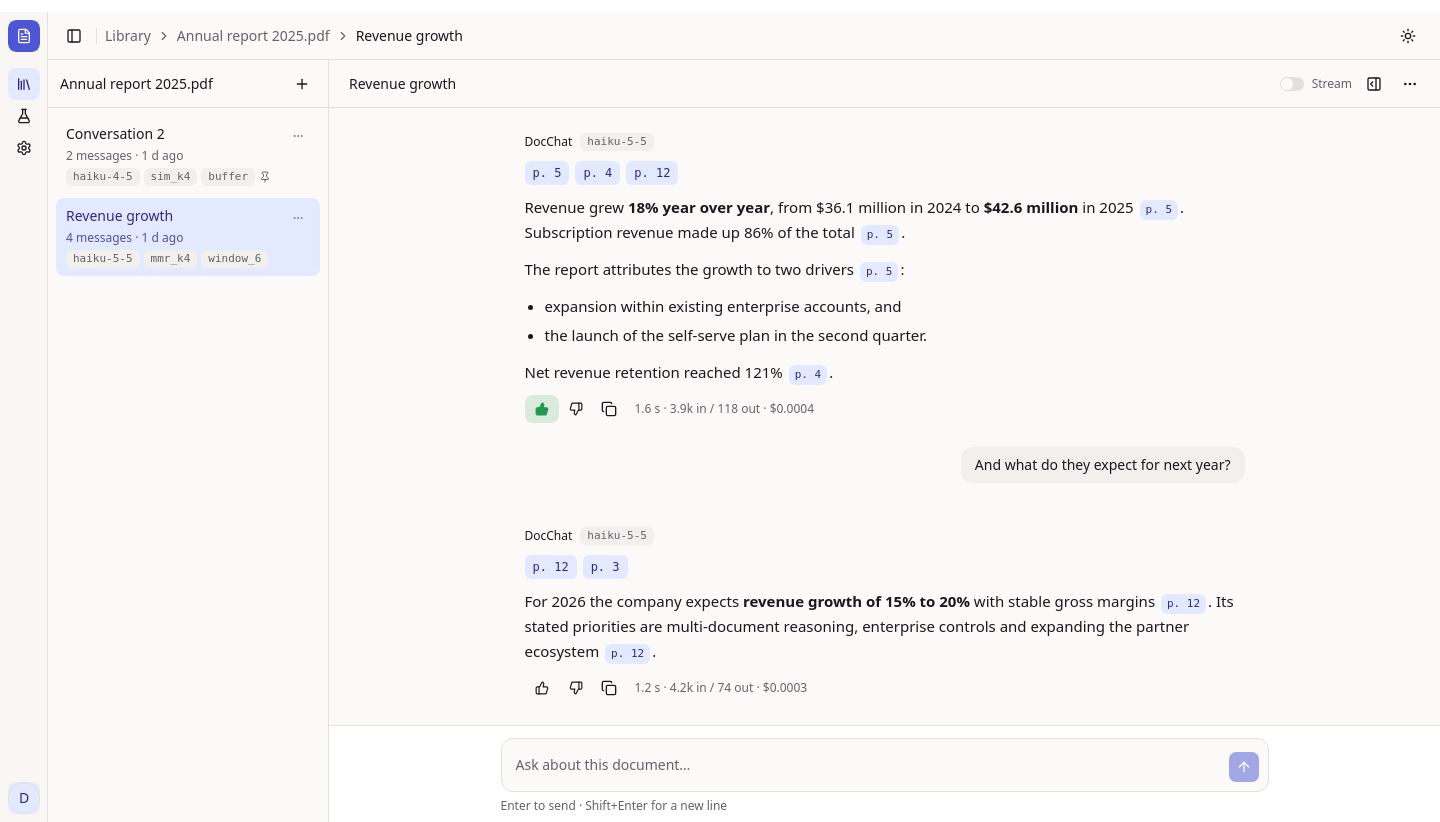
chat › sends a message optimistically and shows the answer
This screenshot has width=1440, height=822.
(page scrolled)
Expected: the element named "Messages" is shown, [500,108,1268,725]
Type "What are the main risks?" into the text box labelled "Ask about this document".
click(864, 765); type("What are the main risks?")  # box [510,747,1220,783]
Then press Enter
(page scrolled)
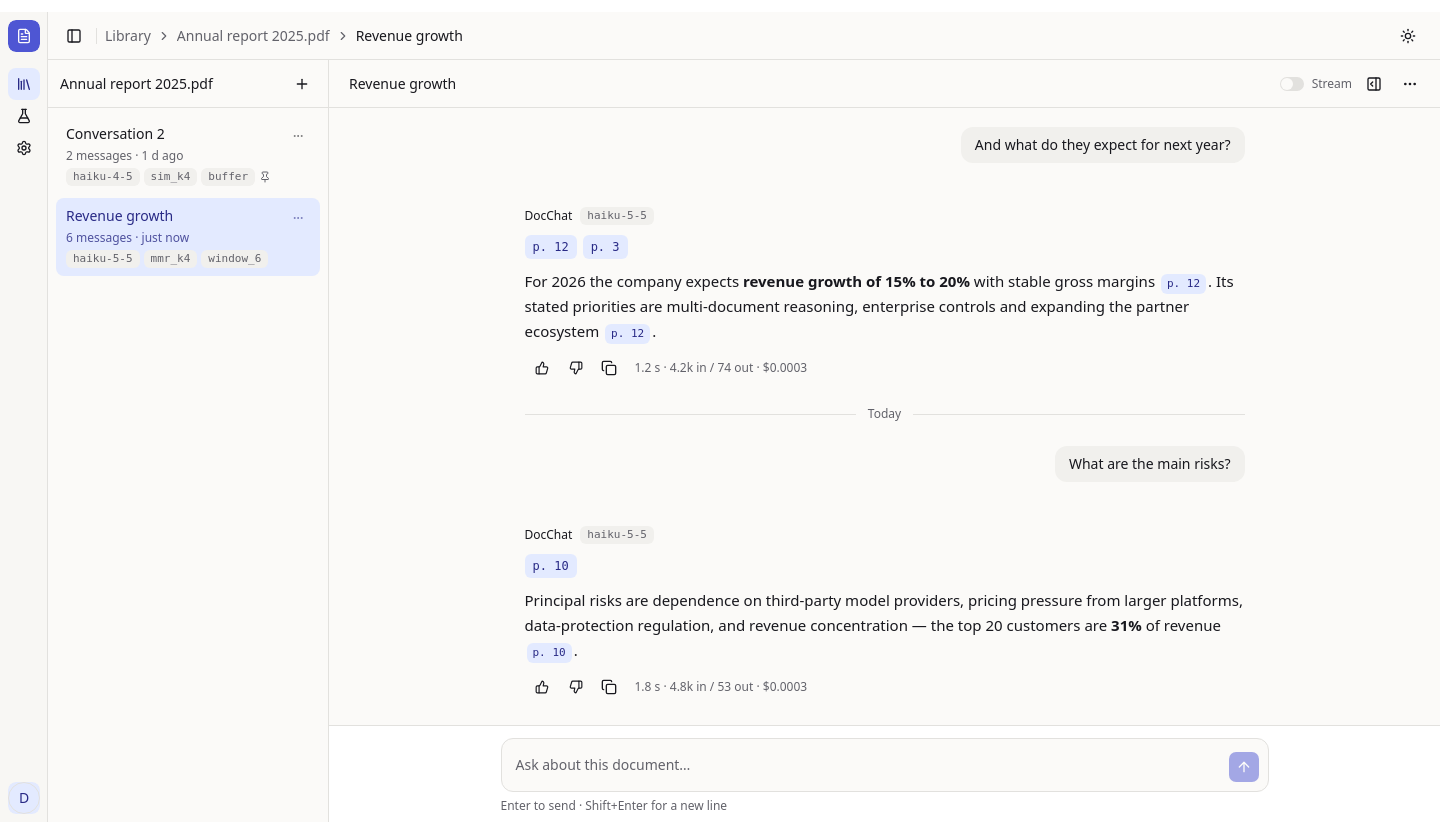
Now the text "What are the main risks?" is shown, box [1055,446,1244,482]
Now the text "Principal risks are" is shown, box [524,590,1243,635]
